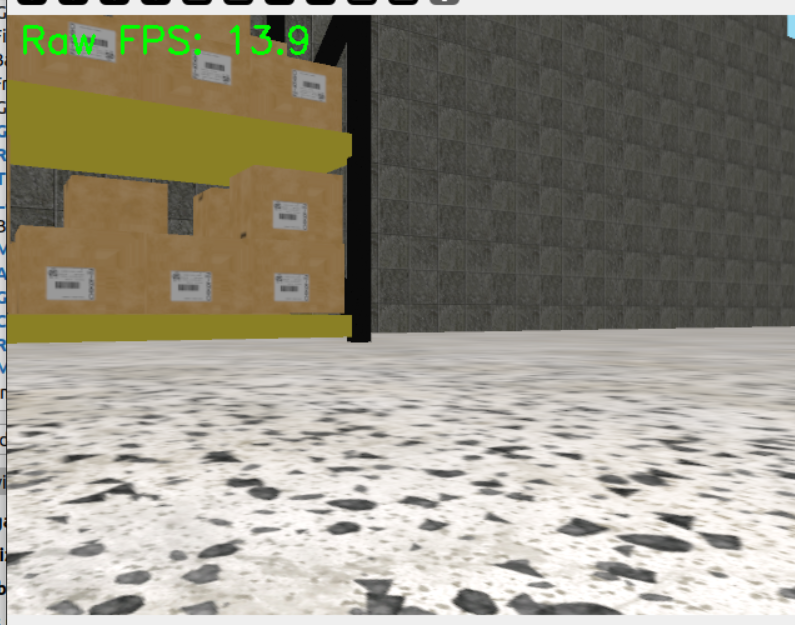barcode: (43, 265, 97, 304), (169, 270, 214, 304), (193, 51, 233, 86), (290, 68, 328, 104), (272, 272, 311, 305), (271, 199, 309, 231)
